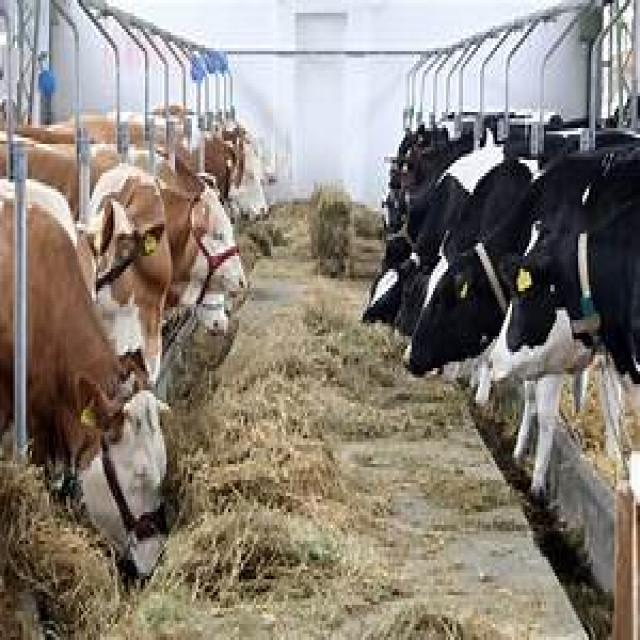cow: (457, 144, 640, 470), (26, 170, 169, 579), (407, 192, 538, 378), (166, 173, 247, 358)
